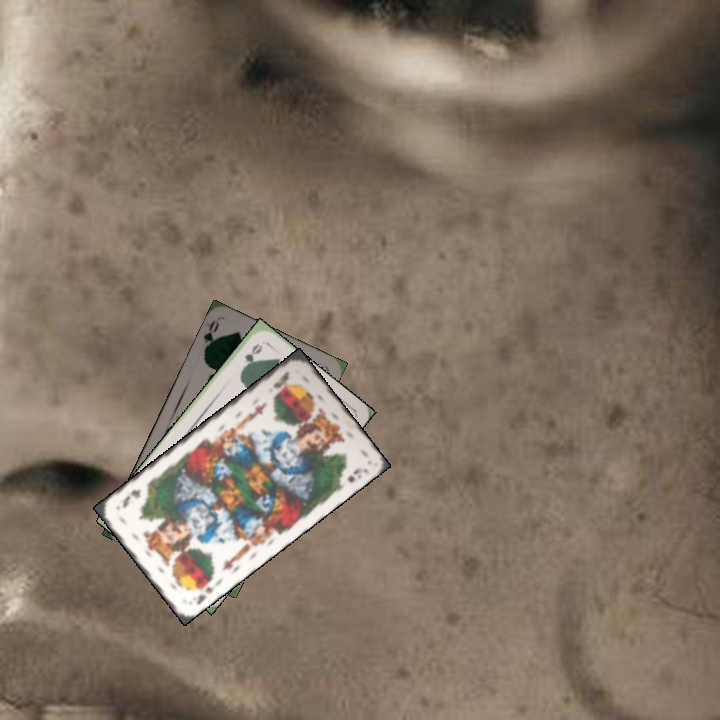GO: (237, 340, 265, 375), (199, 317, 222, 356)
SK: (192, 573, 222, 607), (269, 367, 292, 391)
